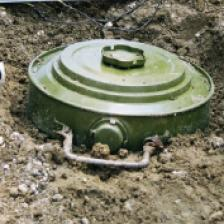TM-46: (29, 34, 215, 174)
